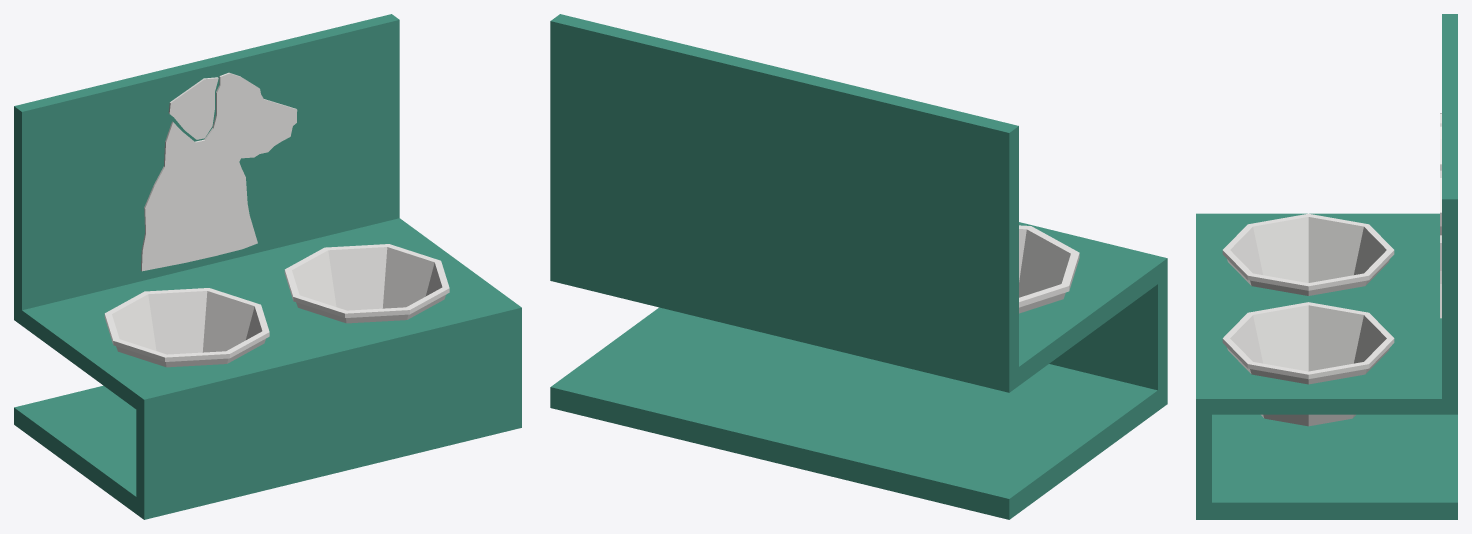
File: food_stand_2.fbx
3 views of the same model, side by side, from view 1: azimuth 30°, elevation 25°; view 2: azimuth 150°, elevation 25°; view 3: azimuth 270°, elevation 25° (orthographic). The views are drawn at different scales.
Visible parts, largest first — view 1: food_stand_2; view 2: food_stand_2; view 3: food_stand_2.
Part boxes in pixels (box(x1,y1,x2,y2)): food_stand_2: box(14, 14, 521, 519); food_stand_2: box(550, 14, 1167, 519); food_stand_2: box(1196, 14, 1457, 519).
Size of the model in its own units: 57.02 by 34.03 by 45.94.
